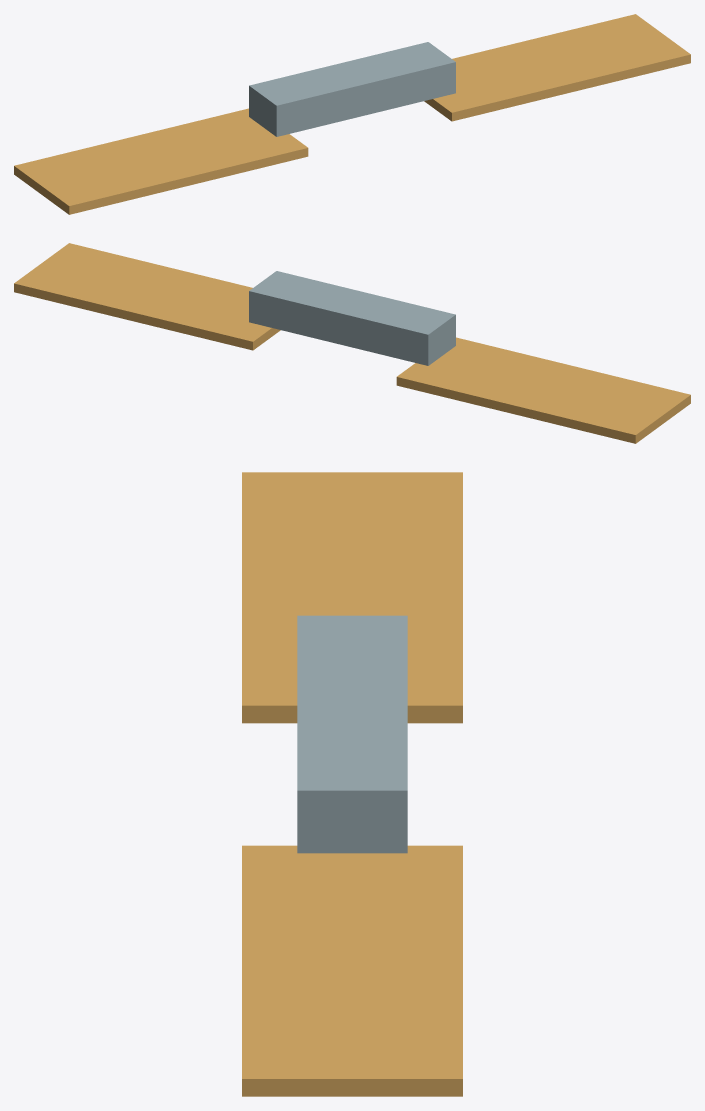
The model's file is 62_L97_Solder_Bridge_Coupon.fbx.
3 views of the same model, one above another, from view 1: azimuth 30°, elevation 25°; view 2: azimuth 150°, elevation 25°; view 3: azimuth 270°, elevation 25° (orthographic). The views are drawn at different scales.
Parts seen in each view (by area): view 1: Pad (×2), Bridge; view 2: Pad (×2), Bridge; view 3: Pad (×2), Bridge.
Boxes of the visible parts, box(x1,y1,x2,y2) form: Pad (×2): box(14, 14, 690, 214); Bridge: box(249, 42, 455, 136); Pad (×2): box(14, 243, 690, 443); Bridge: box(249, 271, 455, 365); Pad (×2): box(242, 472, 462, 1096); Bridge: box(297, 615, 407, 853).
Bounding box in the file's own units: 0.0052 × 0.00036 × 0.0008.
